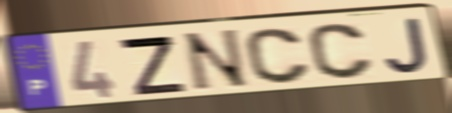4: (68, 38, 117, 102)
C: (305, 21, 377, 81), (242, 26, 314, 86)
J: (382, 15, 431, 76)
N: (181, 27, 254, 95)
Z: (115, 34, 189, 97)
